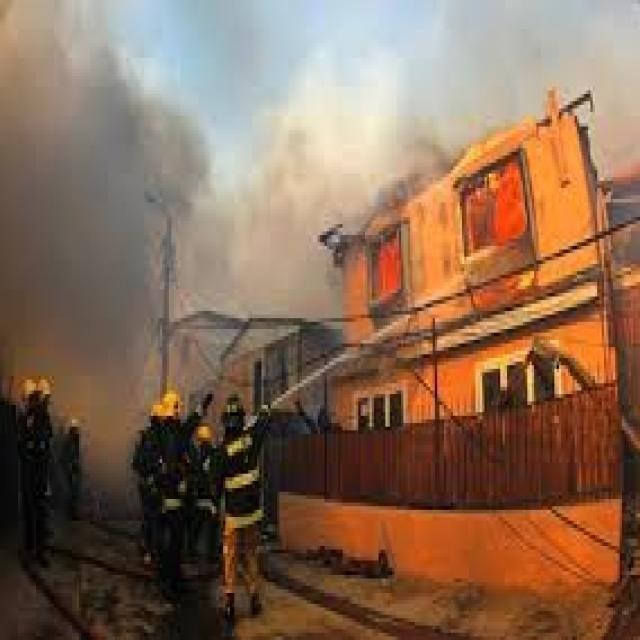Smoke: (0, 0, 169, 387), (173, 68, 400, 267), (402, 0, 640, 107)
